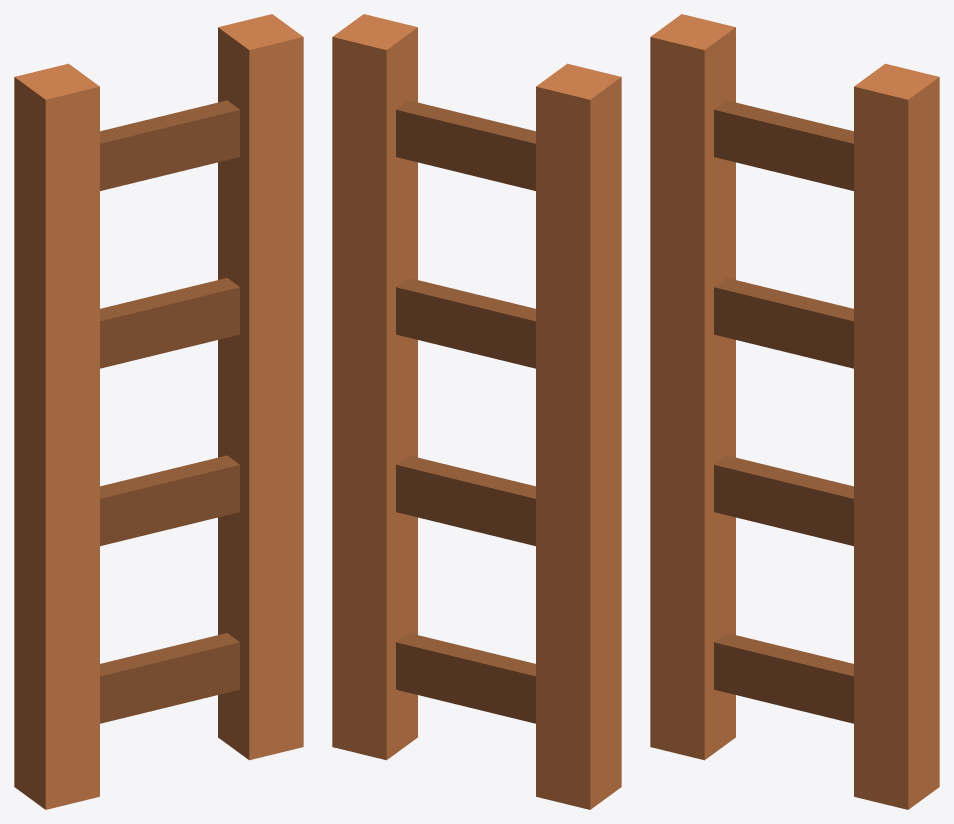
File: ladder.glb
3 renders of one model, left to right at view 1: azimuth 30°, elevation 25°; view 2: azimuth 150°, elevation 25°; view 3: azimuth 330°, elevation 25°, orthographic.
Parts seen in each view (by area): view 1: ladder; view 2: ladder; view 3: ladder.
Part boxes in pixels (<box>): ladder: <box>14,14,303,809</box>; ladder: <box>332,14,621,809</box>; ladder: <box>650,14,939,809</box>.
Bounding box in the file's own units: 0.38 × 1 × 0.08.
